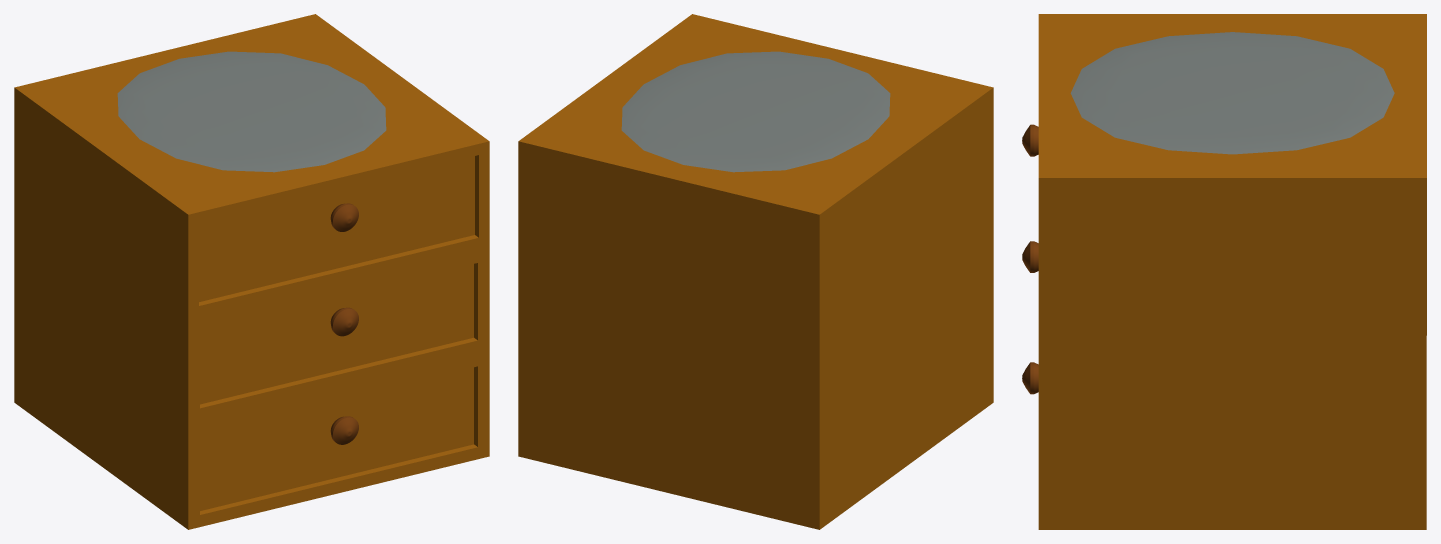
The model's file is living_room_table.glb.
The picture shows the model from 3 angles, left to right: view 1: azimuth 30°, elevation 25°; view 2: azimuth 150°, elevation 25°; view 3: azimuth 270°, elevation 25°; orthographic projection. The views are drawn at different scales.
Visible parts, largest first — view 1: living_room_table; view 2: living_room_table; view 3: living_room_table.
Part boxes in pixels (<box>): living_room_table: <box>14,14,489,529</box>; living_room_table: <box>518,14,993,529</box>; living_room_table: <box>1022,14,1426,529</box>.
Size of the model in its own units: 1.28 by 1.3 by 1.34.
